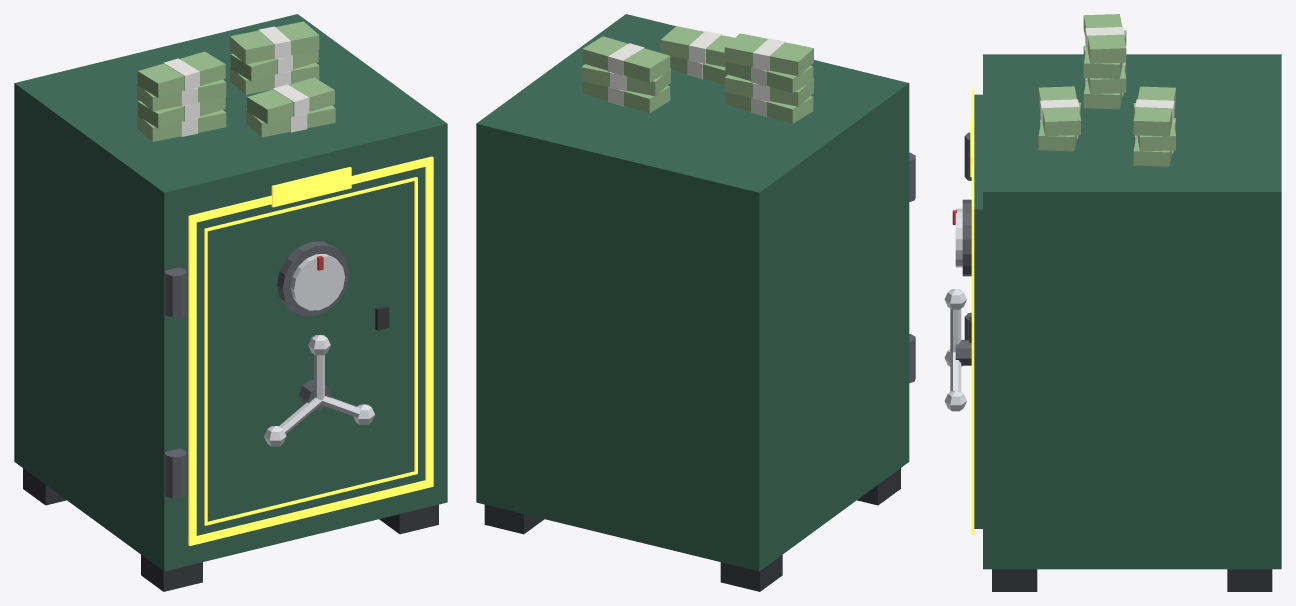
The model's file is office_safe.glb.
The picture shows the model from 3 angles, left to right: view 1: azimuth 30°, elevation 25°; view 2: azimuth 150°, elevation 25°; view 3: azimuth 270°, elevation 25°; orthographic projection.
Parts seen in each view (by area): view 1: office_safe; view 2: office_safe; view 3: office_safe.
Boxes of the visible parts, x1,y1,x2,y2 form: office_safe: (14, 14, 447, 591); office_safe: (476, 14, 915, 591); office_safe: (944, 14, 1281, 591).
Size of the model in its own units: 0.725 by 1.13 by 0.745.
